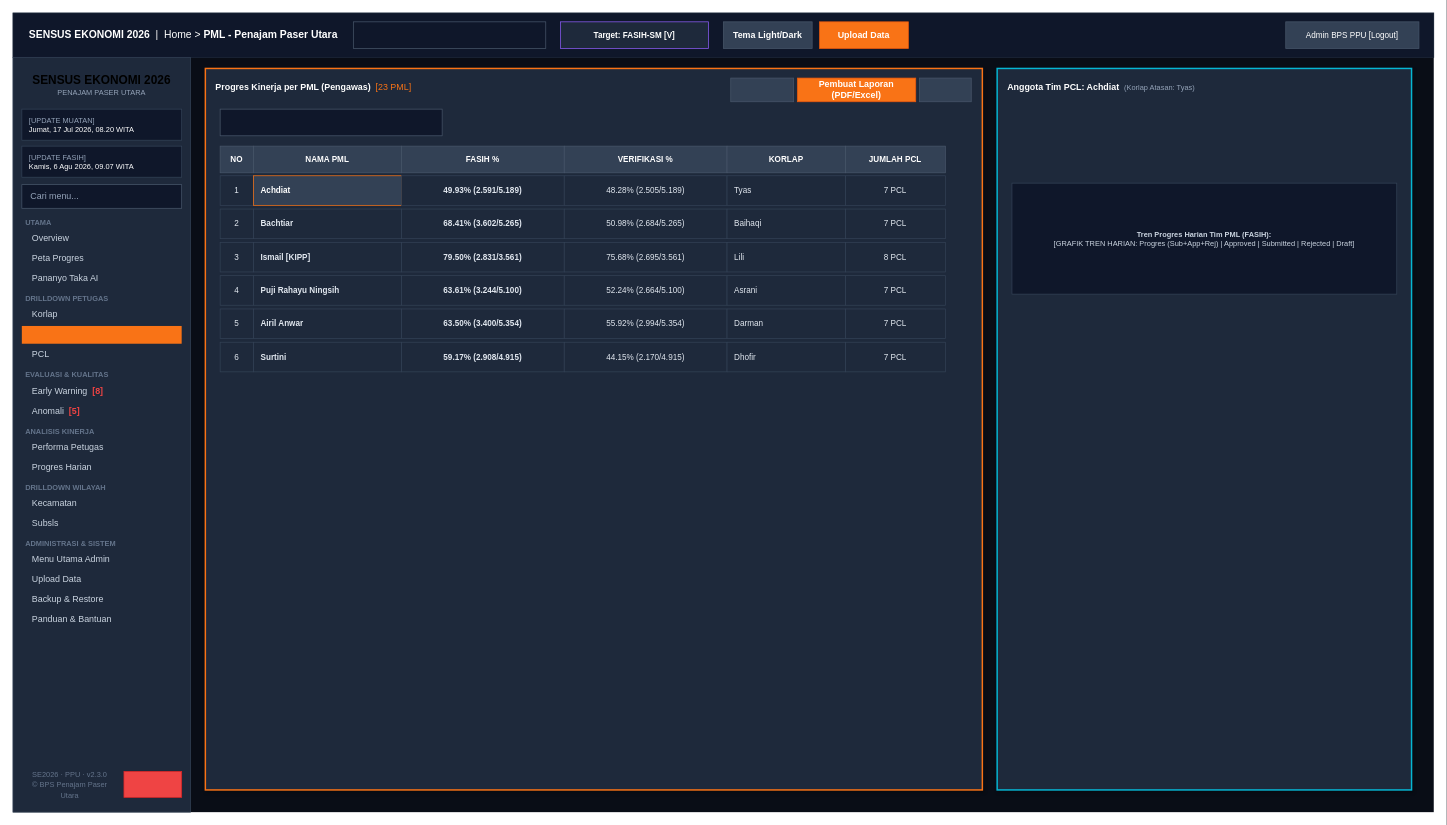
Image size: 1447x825. Some labels were removed from this diagram. Here are the shapes that lost their labels. From the top down, the centre of each, then its label:
At (x=449, y=34): "[Ctrl K] Cari menu / data...".
At (x=762, y=89): "Export [V]".
At (x=945, y=89): "Expand".
At (x=330, y=122): "Cari nama PML...".
At (x=101, y=334): "PML".
At (x=152, y=784): "Logout".
